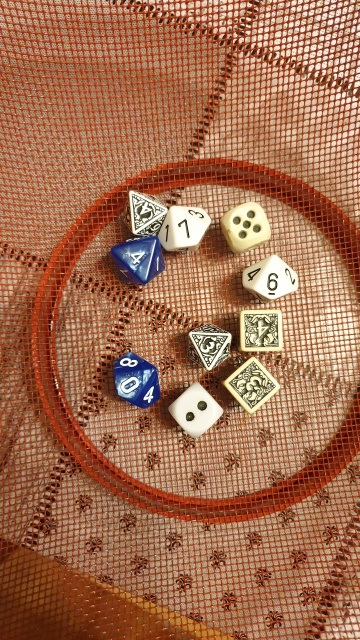d10-10: (110, 350, 163, 412)
d10-4: (108, 233, 167, 286)
d10-6: (236, 252, 306, 304)
d10-7: (157, 200, 210, 254)
d6-2: (164, 379, 224, 441)
d6-5: (215, 200, 274, 254)
d6p-3: (221, 355, 285, 420)
d6p-4: (237, 308, 288, 354)
d8p-3: (182, 317, 231, 374)
d8p-4: (120, 186, 169, 237)
